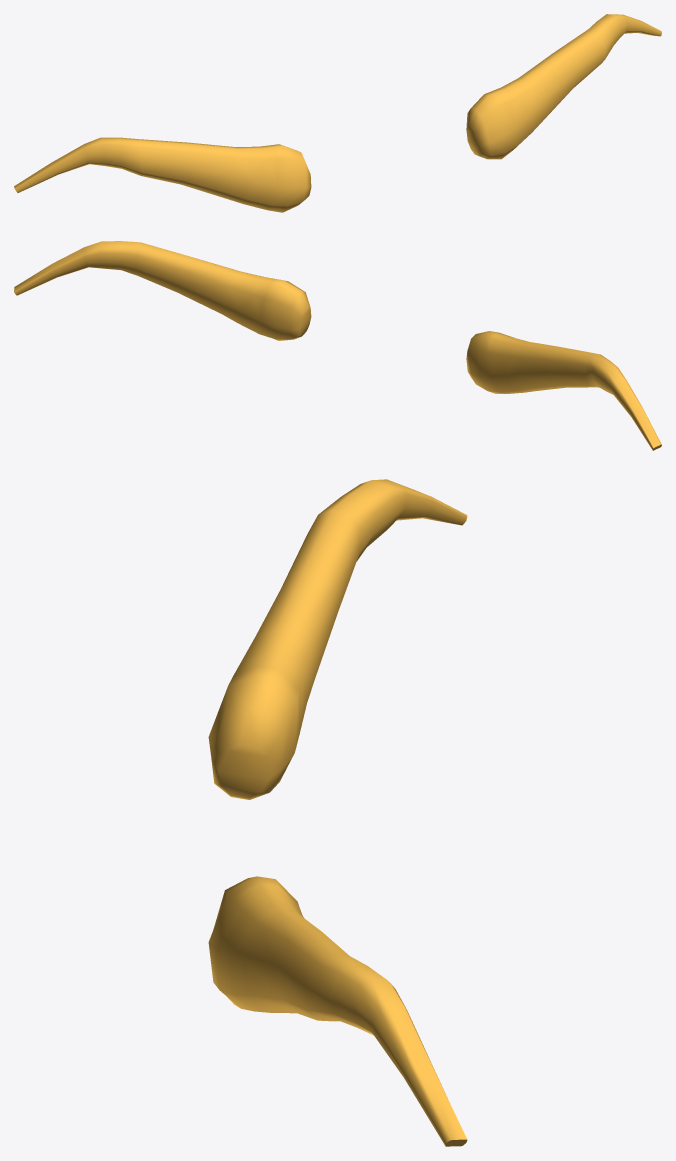
Rendered from Eyebrows_12_05.fbx.
3 renders of one model, top to bottom at view 1: azimuth 30°, elevation 25°; view 2: azimuth 150°, elevation 25°; view 3: azimuth 270°, elevation 25°, orthographic. The views are drawn at different scales.
Parts seen in each view (by area): view 1: Eyebrows_12_05; view 2: Eyebrows_12_05; view 3: Eyebrows_12_05.
Boxes of the visible parts, <box> form: Eyebrows_12_05: <box>14,14,661,212</box>; Eyebrows_12_05: <box>14,241,661,450</box>; Eyebrows_12_05: <box>208,479,467,1146</box>.
Size of the model in its own units: 19.63 by 2.48 by 3.4.
